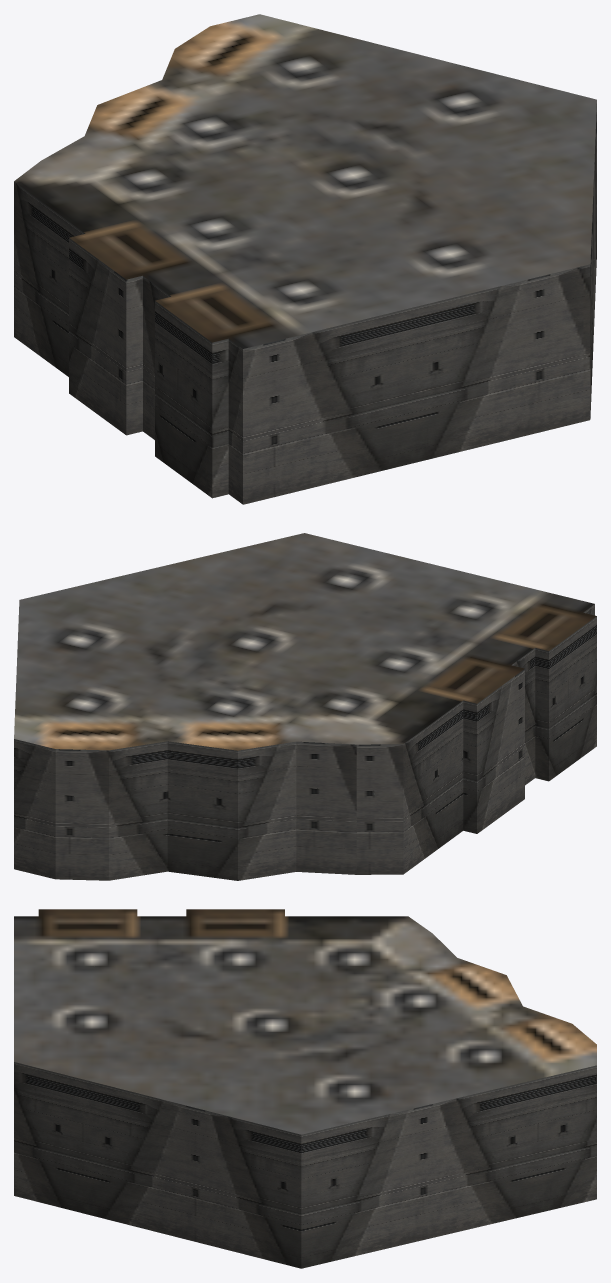
The model's file is fortress_medium_a_14.glb.
3 renders of one model, top to bottom at view 1: azimuth 30°, elevation 25°; view 2: azimuth 150°, elevation 25°; view 3: azimuth 270°, elevation 25°, orthographic. The views are drawn at different scales.
Parts seen in each view (by area): view 1: buildings/saxarba/fortress_medium/fortress_medium_a_14; view 2: buildings/saxarba/fortress_medium/fortress_medium_a_14; view 3: buildings/saxarba/fortress_medium/fortress_medium_a_14.
Boxes of the visible parts, box(x1,y1,x2,y2) form: buildings/saxarba/fortress_medium/fortress_medium_a_14: box(14, 14, 596, 504); buildings/saxarba/fortress_medium/fortress_medium_a_14: box(14, 533, 596, 880); buildings/saxarba/fortress_medium/fortress_medium_a_14: box(14, 909, 596, 1268).
Bounding box in the file's own units: 65 × 18 × 71.
